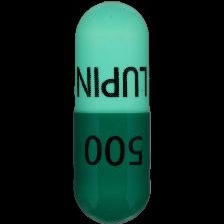10544-013: (0, 0, 224, 224)
